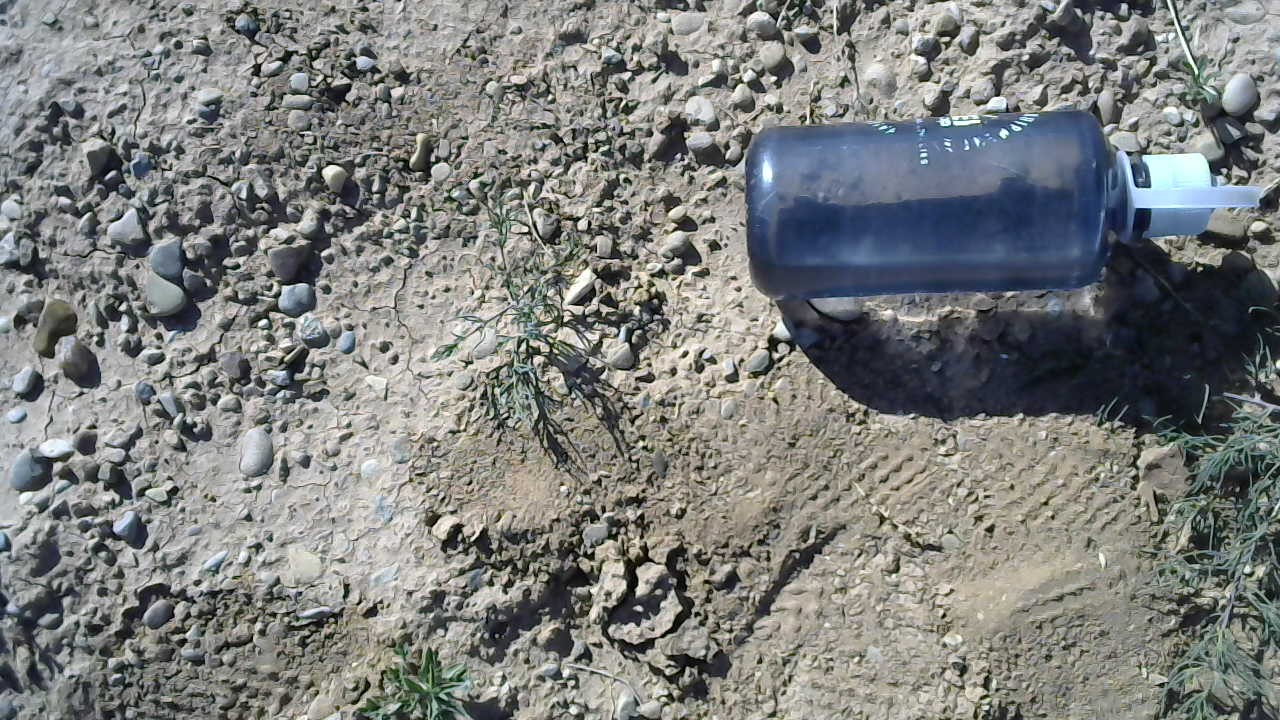bottle: (742, 111, 1265, 297), (1003, 101, 1009, 105)
